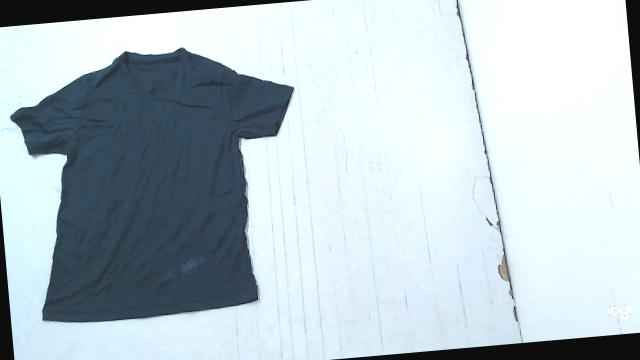new-garment: (10, 48, 293, 321)
